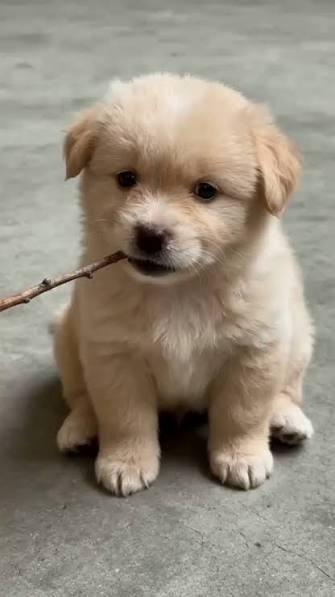puppy-dog: (51, 72, 314, 498)
